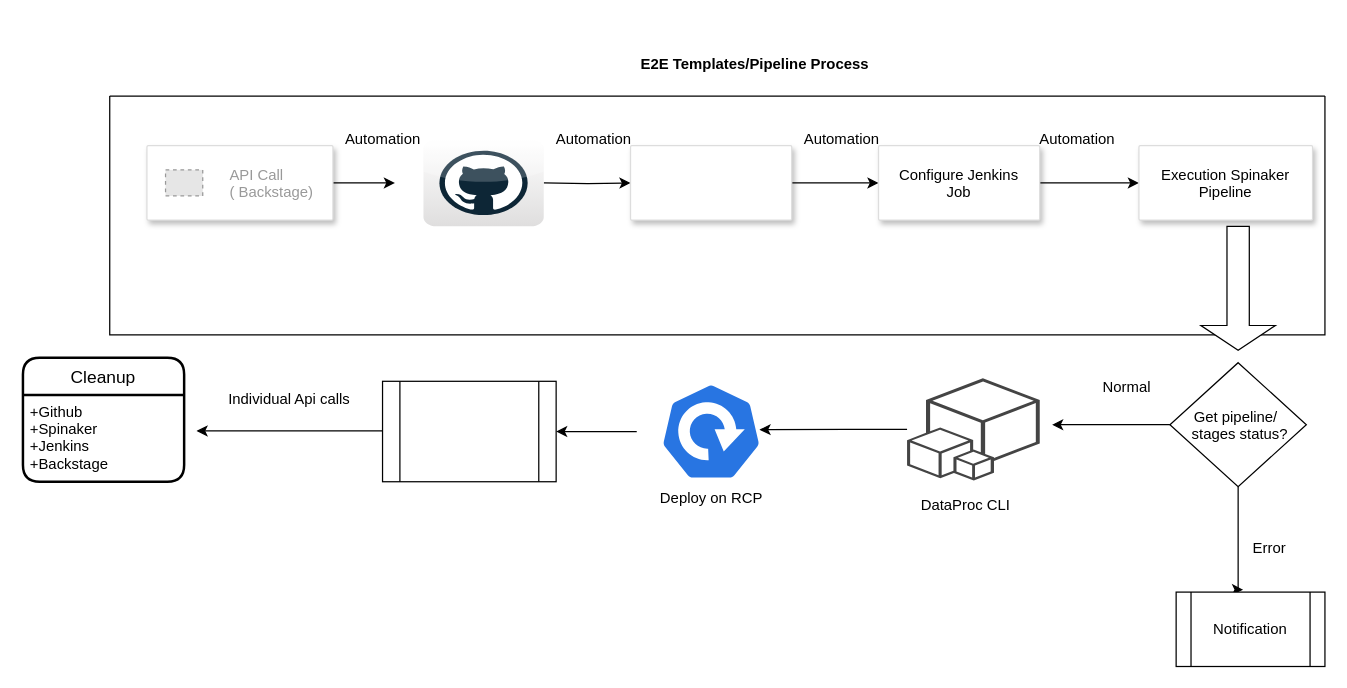
This 1347x688 diagram has some shape labels left out. Grey dashed boxes stand in for pictures. Here are the shapes that lost their labels. From the top down, the centre of each, then its label:
At (711,184): "Configure Spinaker Pipeline".
At (468,431): "Verification Process (Manual or Automated ??)".
